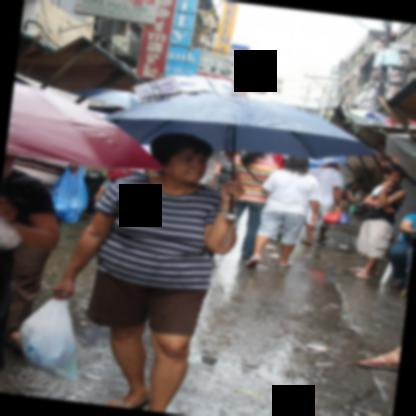handbag: (19, 296, 77, 382), (242, 162, 264, 184), (337, 209, 352, 225)
